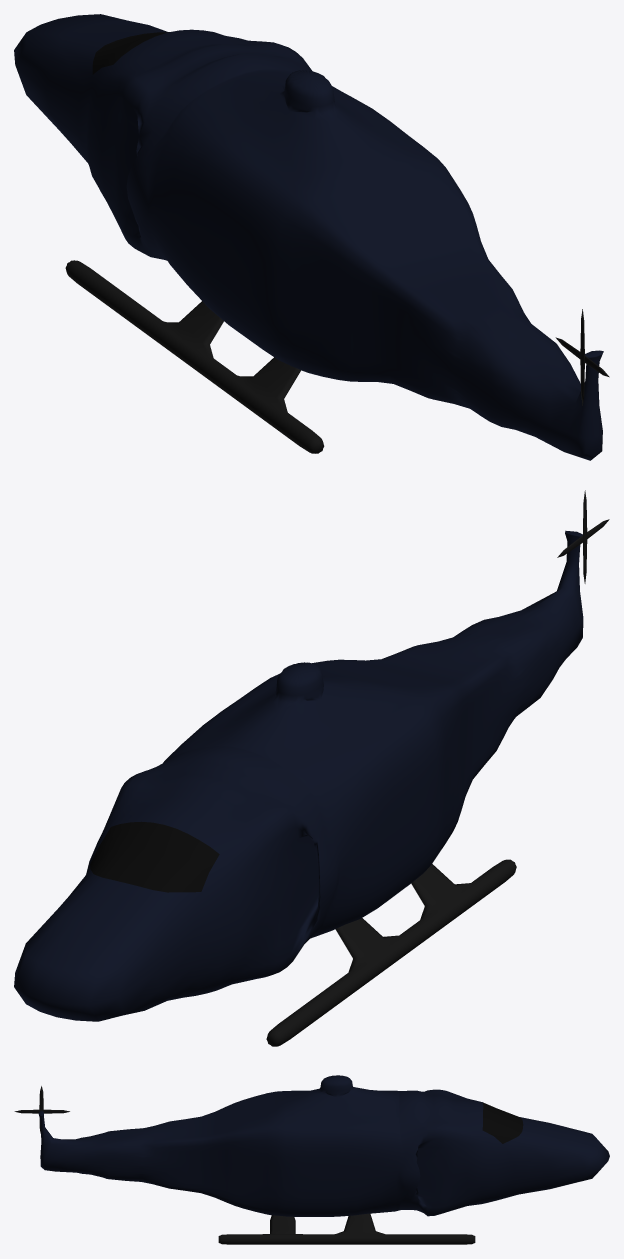
Rendered from helicopterbody.obj.
The picture shows the model from 3 angles, top to bottom: view 1: azimuth 30°, elevation 25°; view 2: azimuth 150°, elevation 25°; view 3: azimuth 270°, elevation 25°; orthographic projection. The views are drawn at different scales.
Visible parts, largest first — view 1: pCylinder3 polySurface7, polySurface1 pCylinder3; view 2: pCylinder3 polySurface7, polySurface1 pCylinder3; view 3: pCylinder3 polySurface7, pCylinder3 polySurface2.
Part boxes in pixels (left/top/right/bottom): pCylinder3 polySurface7: left=14, top=14, right=603, bottom=460; polySurface1 pCylinder3: left=65, top=260, right=324, bottom=453; pCylinder3 polySurface7: left=14, top=530, right=583, bottom=1021; polySurface1 pCylinder3: left=266, top=859, right=516, bottom=1046; pCylinder3 polySurface7: left=38, top=1075, right=609, bottom=1216; pCylinder3 polySurface2: left=218, top=1213, right=475, bottom=1244.
Size of the model in its own units: 1.18 by 1.37 by 5.24.
